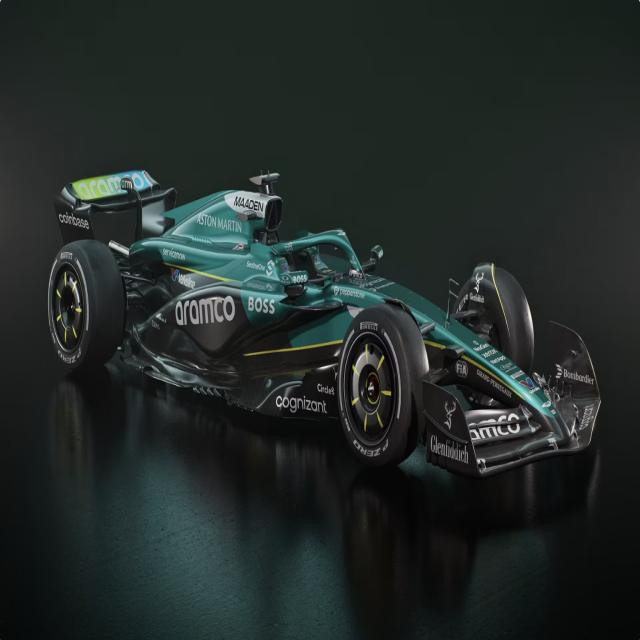Aston Martin: (47, 162, 603, 487)
